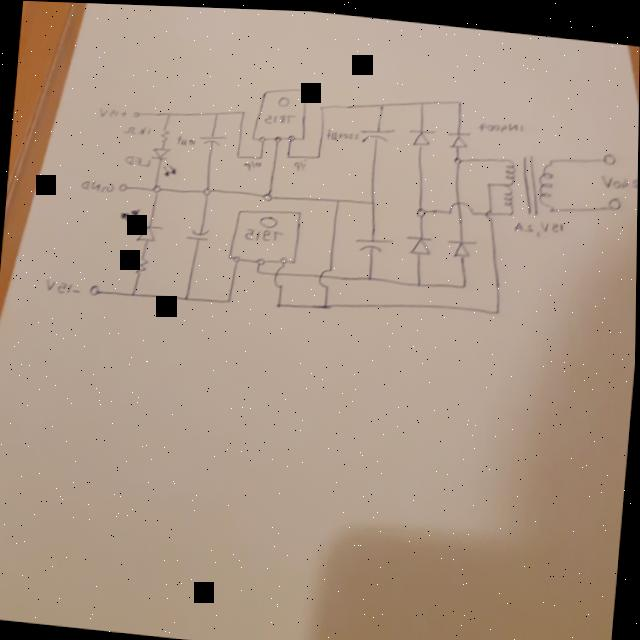capacitor: (350, 228, 393, 253), (358, 120, 396, 142), (197, 127, 228, 147), (186, 222, 211, 241)
crossover: (447, 194, 474, 214), (316, 261, 335, 287), (271, 260, 287, 285), (482, 202, 495, 217)
diode: (118, 203, 166, 244), (147, 141, 179, 178), (443, 230, 480, 258), (403, 227, 437, 255), (406, 120, 436, 144), (446, 122, 472, 146)
junction: (414, 200, 428, 216), (200, 181, 212, 194), (262, 187, 275, 199), (151, 180, 162, 192), (459, 274, 469, 286), (414, 274, 424, 284), (452, 150, 462, 160), (377, 96, 386, 106), (493, 301, 502, 311), (182, 291, 191, 301), (129, 287, 138, 297), (368, 194, 377, 204), (365, 269, 374, 278), (417, 94, 426, 103), (322, 297, 331, 306), (334, 192, 343, 201), (283, 148, 291, 156), (455, 94, 463, 101), (254, 264, 261, 271), (234, 149, 240, 157), (226, 294, 232, 301), (315, 149, 321, 156), (165, 108, 171, 115), (319, 100, 325, 107), (276, 299, 282, 305), (240, 106, 246, 112), (214, 108, 220, 114), (486, 176, 492, 182), (257, 151, 263, 157)
resistor: (132, 252, 150, 278), (158, 122, 171, 144)
terminal: (605, 189, 623, 207), (600, 145, 617, 160), (87, 281, 102, 295), (116, 178, 129, 191), (132, 107, 141, 117)
text: (513, 208, 566, 236), (474, 111, 525, 131), (243, 222, 286, 242), (598, 166, 638, 187), (43, 275, 80, 294), (262, 105, 297, 124), (324, 123, 361, 140), (80, 176, 116, 193), (120, 120, 153, 136), (122, 151, 153, 167), (97, 104, 128, 118), (175, 131, 197, 145), (241, 155, 262, 169), (291, 154, 307, 170)
transformer: (501, 145, 558, 213)
